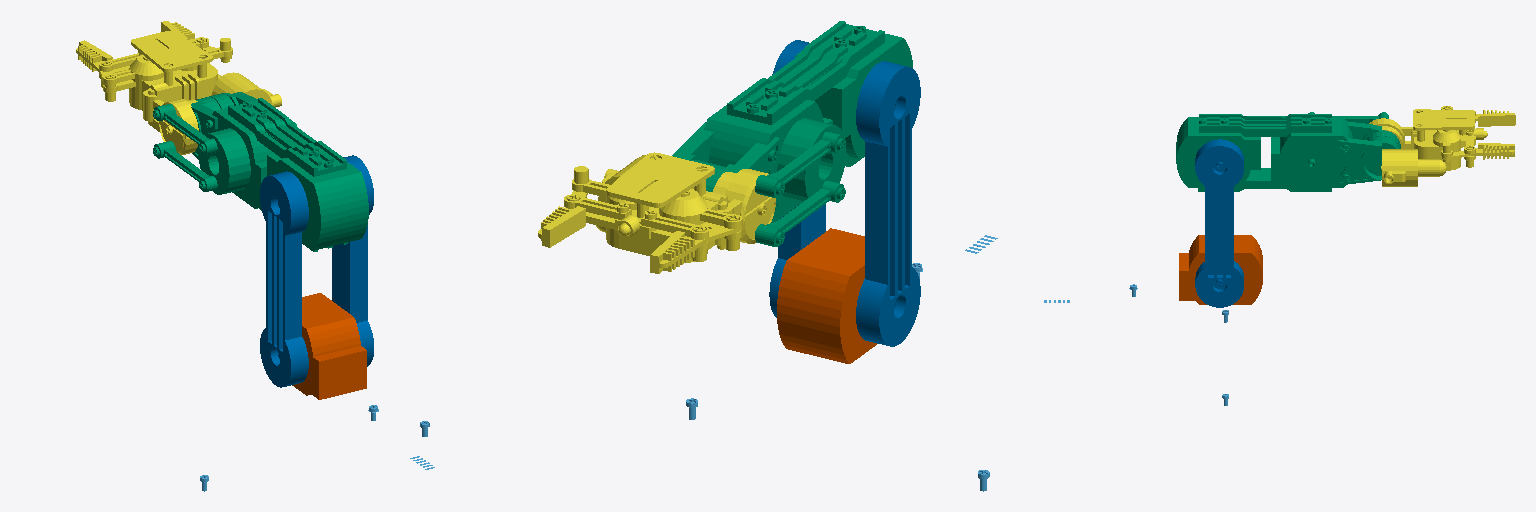
--- What the picture shows (computed from the rendered views, not written in the file) ---
3 views of the same robot in one strip: view 1: azimuth 30°, elevation 25°; view 2: azimuth 150°, elevation 25°; view 3: azimuth 270°, elevation 25° (orthographic).
Model owi535 with 6 links and 5 joints (4 revolute, 1 fixed), rooted at World, posed every joint at zero.
Links seen in each view (by area): view 1: Elbow, Base, Wrist, Rotation; view 2: Elbow, Wrist, Base, Rotation, Model; view 3: Elbow, Wrist, Base, Rotation.
Boxes of the visible links, x1,y1,x2,y2 form: Elbow: (153, 92, 368, 251); Base: (260, 155, 373, 387); Wrist: (76, 21, 281, 155); Rotation: (292, 293, 366, 399); Elbow: (672, 21, 912, 246); Wrist: (538, 152, 775, 273); Base: (769, 40, 920, 346); Rotation: (777, 228, 876, 363); Model: (686, 235, 997, 491); Elbow: (1176, 112, 1400, 191); Wrist: (1369, 106, 1515, 186); Base: (1195, 139, 1243, 307); Rotation: (1179, 235, 1262, 304).
Size in the robot's own frame: 1.43 by 3.27 by 1.87 metres.
72 mesh visuals loaded from 74 distinct referenced files (72 OBJ); not drawn: 2 (reference not matched to a file when rendering).

The robot description file, URDF, robot "owi535":
<?xml version="1.0" ?>
<robot name="owi535">

   <link name="World"/>
   <link name="Model">
      <visual>
         <origin rpy="0.0 -0.0 0.0" xyz="0.0 0.0 0.0"/>
         <geometry>
            <mesh filename="package://owi_35/urdf/Untitled-mesh.0.obj" scale="0.01 0.01 0.01"/>
         </geometry>
      </visual>
      <collision>
         <origin rpy="0.0 -0.0 0.0" xyz="0.0 0.0 0.0"/>
         <geometry>
            <mesh filename="package://owi_35/urdf/Untitled-mesh.0.obj" scale="0.01 0.01 0.01"/>
         </geometry>
      </collision>
      <visual>
         <origin rpy="0.0 -0.0 0.0" xyz="0.0 0.0 0.0"/>
         <geometry>
            <mesh filename="package://owi_35/urdf/Untitled_001-mesh.0.obj" scale="0.01 0.01 0.01"/>
         </geometry>
      </visual>
      <collision>
         <origin rpy="0.0 -0.0 0.0" xyz="0.0 0.0 0.0"/>
         <geometry>
            <mesh filename="package://owi_35/urdf/Untitled_001-mesh.0.obj" scale="0.01 0.01 0.01"/>
         </geometry>
      </collision>
      <visual>
         <origin rpy="0.0 -0.0 0.0" xyz="0.0 0.0 0.0"/>
         <geometry>
            <mesh filename="package://owi_35/urdf/Untitled_001-mesh.1.obj" scale="0.01 0.01 0.01"/>
         </geometry>
      </visual>
      <collision>
         <origin rpy="0.0 -0.0 0.0" xyz="0.0 0.0 0.0"/>
         <geometry>
            <mesh filename="package://owi_35/urdf/Untitled_001-mesh.1.obj" scale="0.01 0.01 0.01"/>
         </geometry>
      </collision>
      <visual>
         <origin rpy="0.0 -0.0 0.0" xyz="0.0 0.0 0.0"/>
         <geometry>
            <mesh filename="package://owi_35/urdf/Untitled_001-mesh.2.obj" scale="0.01 0.01 0.01"/>
         </geometry>
      </visual>
      <collision>
         <origin rpy="0.0 -0.0 0.0" xyz="0.0 0.0 0.0"/>
         <geometry>
            <mesh filename="package://owi_35/urdf/Untitled_001-mesh.2.obj" scale="0.01 0.01 0.01"/>
         </geometry>
      </collision>
      <visual>
         <origin rpy="0.0 -0.0 0.0" xyz="0.0 0.0 0.0"/>
         <geometry>
            <mesh filename="package://owi_35/urdf/Untitled_001-mesh.3.obj" scale="0.01 0.01 0.01"/>
         </geometry>
      </visual>
      <collision>
         <origin rpy="0.0 -0.0 0.0" xyz="0.0 0.0 0.0"/>
         <geometry>
            <mesh filename="package://owi_35/urdf/Untitled_001-mesh.3.obj" scale="0.01 0.01 0.01"/>
         </geometry>
      </collision>
      <visual>
         <origin rpy="0.0 -0.0 0.0" xyz="0.0 0.0 0.0"/>
         <geometry>
            <mesh filename="package://owi_35/urdf/Untitled_002-mesh.0.obj" scale="0.01 0.01 0.01"/>
         </geometry>
      </visual>
      <collision>
         <origin rpy="0.0 -0.0 0.0" xyz="0.0 0.0 0.0"/>
         <geometry>
            <mesh filename="package://owi_35/urdf/Untitled_002-mesh.0.obj" scale="0.01 0.01 0.01"/>
         </geometry>
      </collision>
      <visual>
         <origin rpy="0.0 -0.0 0.0" xyz="0.0 0.0 0.0"/>
         <geometry>
            <mesh filename="package://owi_35/urdf/Untitled_003-mesh.0.obj" scale="0.01 0.01 0.01"/>
         </geometry>
      </visual>
      <collision>
         <origin rpy="0.0 -0.0 0.0" xyz="0.0 0.0 0.0"/>
         <geometry>
            <mesh filename="package://owi_35/urdf/Untitled_003-mesh.0.obj" scale="0.01 0.01 0.01"/>
         </geometry>
      </collision>
      <inertial>
 <origin rpy="0.0 -0.0 0.0" xyz="0.0 0.0 0.0"/>
            <mass value="1" />
            
<inertia ixx="1.004" ixy="1.001" ixz="1" iyy="1.006" iyz="1" izz="1.007" />      </inertial>
   </link>
   <link name="Elbow">
      <visual>
         <origin rpy="-3.97231980642232e-09 -0.0 0.0" xyz="46.62923049926758 -157.33990478515625 23.237260818481445"/>
         <geometry>
            <mesh filename="package://owi_35/urdf/Untitled_004-mesh.0.obj" scale="0.01 0.01 0.01"/>
         </geometry>
      </visual>
      <collision>
         <origin rpy="-3.97231980642232e-09 -0.0 0.0" xyz="46.62923049926758 -157.33990478515625 23.237260818481445"/>
         <geometry>
            <mesh filename="package://owi_35/urdf/Untitled_004-mesh.0.obj" scale="0.01 0.01 0.01"/>
         </geometry>
      </collision>
      <visual>
         <origin rpy="-3.97231980642232e-09 -0.0 0.0" xyz="46.62923049926758 -157.33990478515625 23.237260818481445"/>
         <geometry>
            <mesh filename="package://owi_35/urdf/Untitled_005-mesh.0.obj" scale="0.01 0.01 0.01"/>
         </geometry>
      </visual>
      <collision>
         <origin rpy="-3.97231980642232e-09 -0.0 0.0" xyz="46.62923049926758 -157.33990478515625 23.237260818481445"/>
         <geometry>
            <mesh filename="package://owi_35/urdf/Untitled_005-mesh.0.obj" scale="0.01 0.01 0.01"/>
         </geometry>
      </collision>
      <visual>
         <origin rpy="-3.97231980642232e-09 -0.0 0.0" xyz="46.62923049926758 -157.33990478515625 23.237260818481445"/>
         <geometry>
            <mesh filename="package://owi_35/urdf/Untitled_006-mesh.0.obj" scale="0.01 0.01 0.01"/>
         </geometry>
      </visual>
      <collision>
         <origin rpy="-3.97231980642232e-09 -0.0 0.0" xyz="46.62923049926758 -157.33990478515625 23.237260818481445"/>
         <geometry>
            <mesh filename="package://owi_35/urdf/Untitled_006-mesh.0.obj" scale="0.01 0.01 0.01"/>
         </geometry>
      </collision>
      <visual>
         <origin rpy="-3.97231980642232e-09 -0.0 0.0" xyz="46.62923049926758 -157.33990478515625 23.237260818481445"/>
         <geometry>
            <mesh filename="package://owi_35/urdf/Untitled_007-mesh.0.obj" scale="0.01 0.01 0.01"/>
         </geometry>
      </visual>
      <collision>
         <origin rpy="-3.97231980642232e-09 -0.0 0.0" xyz="46.62923049926758 -157.33990478515625 23.237260818481445"/>
         <geometry>
            <mesh filename="package://owi_35/urdf/Untitled_007-mesh.0.obj" scale="0.01 0.01 0.01"/>
         </geometry>
      </collision>
      <visual>
         <origin rpy="-3.97231980642232e-09 -0.0 0.0" xyz="46.62923049926758 -157.33990478515625 23.237260818481445"/>
         <geometry>
            <mesh filename="package://owi_35/urdf/Untitled_008-mesh.0.obj" scale="0.01 0.01 0.01"/>
         </geometry>
      </visual>
      <collision>
         <origin rpy="-3.97231980642232e-09 -0.0 0.0" xyz="46.62923049926758 -157.33990478515625 23.237260818481445"/>
         <geometry>
            <mesh filename="package://owi_35/urdf/Untitled_008-mesh.0.obj" scale="0.01 0.01 0.01"/>
         </geometry>
      </collision>
      <visual>
         <origin rpy="-3.97231980642232e-09 -0.0 0.0" xyz="46.62923049926758 -157.33990478515625 23.237260818481445"/>
         <geometry>
            <mesh filename="package://owi_35/urdf/Untitled_009-mesh.0.obj" scale="0.01 0.01 0.01"/>
         </geometry>
      </visual>
      <collision>
         <origin rpy="-3.97231980642232e-09 -0.0 0.0" xyz="46.62923049926758 -157.33990478515625 23.237260818481445"/>
         <geometry>
            <mesh filename="package://owi_35/urdf/Untitled_009-mesh.0.obj" scale="0.01 0.01 0.01"/>
         </geometry>
      </collision>
      <visual>
         <origin rpy="-3.97231980642232e-09 -0.0 0.0" xyz="46.62923049926758 -157.33990478515625 23.237260818481445"/>
         <geometry>
            <mesh filename="package://owi_35/urdf/Untitled_010-mesh.0.obj" scale="0.01 0.01 0.01"/>
         </geometry>
      </visual>
      <collision>
         <origin rpy="-3.97231980642232e-09 -0.0 0.0" xyz="46.62923049926758 -157.33990478515625 23.237260818481445"/>
         <geometry>
            <mesh filename="package://owi_35/urdf/Untitled_010-mesh.0.obj" scale="0.01 0.01 0.01"/>
         </geometry>
      </collision>
      <visual>
         <origin rpy="-3.97231980642232e-09 -0.0 0.0" xyz="46.62923049926758 -157.33990478515625 23.237260818481445"/>
         <geometry>
            <mesh filename="package://owi_35/urdf/Untitled_011-mesh.0.obj" scale="0.01 0.01 0.01"/>
         </geometry>
      </visual>
      <collision>
         <origin rpy="-3.97231980642232e-09 -0.0 0.0" xyz="46.62923049926758 -157.33990478515625 23.237260818481445"/>
         <geometry>
            <mesh filename="package://owi_35/urdf/Untitled_011-mesh.0.obj" scale="0.01 0.01 0.01"/>
         </geometry>
      </collision>
      <visual>
         <origin rpy="-7.94463961284464e-09 -0.0 0.0" xyz="46.62922668457031 -157.33990478515625 23.237262725830078"/>
         <geometry>
            <mesh filename="package://owi_35/urdf/Untitled_040-mesh.0.obj" scale="0.01 0.01 0.01"/>
         </geometry>
      </visual>
      <collision>
         <origin rpy="-7.94463961284464e-09 -0.0 0.0" xyz="46.62922668457031 -157.33990478515625 23.237262725830078"/>
         <geometry>
            <mesh filename="package://owi_35/urdf/Untitled_040-mesh.0.obj" scale="0.01 0.01 0.01"/>
         </geometry>
      </collision>
      <visual>
         <origin rpy="-7.94463961284464e-09 -0.0 0.0" xyz="46.62922668457031 -157.33990478515625 23.237262725830078"/>
         <geometry>
            <mesh filename="package://owi_35/urdf/Untitled_041-mesh.0.obj" scale="0.01 0.01 0.01"/>
         </geometry>
      </visual>
      <collision>
         <origin rpy="-7.94463961284464e-09 -0.0 0.0" xyz="46.62922668457031 -157.33990478515625 23.237262725830078"/>
         <geometry>
            <mesh filename="package://owi_35/urdf/Untitled_041-mesh.0.obj" scale="0.01 0.01 0.01"/>
         </geometry>
      </collision>
      <visual>
         <origin rpy="-7.94463961284464e-09 -0.0 0.0" xyz="46.62922668457031 -157.33990478515625 23.237262725830078"/>
         <geometry>
            <mesh filename="package://owi_35/urdf/Untitled_042-mesh.0.obj" scale="0.01 0.01 0.01"/>
         </geometry>
      </visual>
      <collision>
         <origin rpy="-7.94463961284464e-09 -0.0 0.0" xyz="46.62922668457031 -157.33990478515625 23.237262725830078"/>
         <geometry>
            <mesh filename="package://owi_35/urdf/Untitled_042-mesh.0.obj" scale="0.01 0.01 0.01"/>
         </geometry>
      </collision>
      <visual>
         <origin rpy="-7.94463961284464e-09 -0.0 0.0" xyz="46.62922668457031 -157.33990478515625 23.237262725830078"/>
         <geometry>
            <mesh filename="package://owi_35/urdf/Untitled_043-mesh.0.obj" scale="0.01 0.01 0.01"/>
         </geometry>
      </visual>
      <collision>
         <origin rpy="-7.94463961284464e-09 -0.0 0.0" xyz="46.62922668457031 -157.33990478515625 23.237262725830078"/>
         <geometry>
            <mesh filename="package://owi_35/urdf/Untitled_043-mesh.0.obj" scale="0.01 0.01 0.01"/>
         </geometry>
      </collision>
      <visual>
         <origin rpy="-7.94463961284464e-09 -0.0 0.0" xyz="46.62922668457031 -157.33990478515625 23.237262725830078"/>
         <geometry>
            <mesh filename="package://owi_35/urdf/Untitled_044-mesh.0.obj" scale="0.01 0.01 0.01"/>
         </geometry>
      </visual>
      <collision>
         <origin rpy="-7.94463961284464e-09 -0.0 0.0" xyz="46.62922668457031 -157.33990478515625 23.237262725830078"/>
         <geometry>
            <mesh filename="package://owi_35/urdf/Untitled_044-mesh.0.obj" scale="0.01 0.01 0.01"/>
         </geometry>
      </collision>
      <visual>
         <origin rpy="-7.94463961284464e-09 -0.0 0.0" xyz="46.62922668457031 -157.33990478515625 23.237262725830078"/>
         <geometry>
            <mesh filename="package://owi_35/urdf/Untitled_045-mesh.0.obj" scale="0.01 0.01 0.01"/>
         </geometry>
      </visual>
      <collision>
         <origin rpy="-7.94463961284464e-09 -0.0 0.0" xyz="46.62922668457031 -157.33990478515625 23.237262725830078"/>
         <geometry>
            <mesh filename="package://owi_35/urdf/Untitled_045-mesh.0.obj" scale="0.01 0.01 0.01"/>
         </geometry>
      </collision>
      <visual>
         <origin rpy="-7.94463961284464e-09 -0.0 0.0" xyz="46.62922668457031 -157.33990478515625 23.237262725830078"/>
         <geometry>
            <mesh filename="package://owi_35/urdf/Untitled_046-mesh.0.obj" scale="0.01 0.01 0.01"/>
         </geometry>
      </visual>
      <collision>
         <origin rpy="-7.94463961284464e-09 -0.0 0.0" xyz="46.62922668457031 -157.33990478515625 23.237262725830078"/>
         <geometry>
            <mesh filename="package://owi_35/urdf/Untitled_046-mesh.0.obj" scale="0.01 0.01 0.01"/>
         </geometry>
      </collision>
      <visual>
         <origin rpy="-7.94463961284464e-09 -0.0 0.0" xyz="46.62922668457031 -157.33990478515625 23.237262725830078"/>
         <geometry>
            <mesh filename="package://owi_35/urdf/Untitled_047-mesh.0.obj" scale="0.01 0.01 0.01"/>
         </geometry>
      </visual>
      <collision>
         <origin rpy="-7.94463961284464e-09 -0.0 0.0" xyz="46.62922668457031 -157.33990478515625 23.237262725830078"/>
         <geometry>
            <mesh filename="package://owi_35/urdf/Untitled_047-mesh.0.obj" scale="0.01 0.01 0.01"/>
         </geometry>
      </collision>
      <visual>
         <origin rpy="-7.94463961284464e-09 -0.0 0.0" xyz="46.62922668457031 -157.33990478515625 23.237262725830078"/>
         <geometry>
            <mesh filename="package://owi_35/urdf/Untitled_048-mesh.0.obj" scale="0.01 0.01 0.01"/>
         </geometry>
      </visual>
      <collision>
         <origin rpy="-7.94463961284464e-09 -0.0 0.0" xyz="46.62922668457031 -157.33990478515625 23.237262725830078"/>
         <geometry>
            <mesh filename="package://owi_35/urdf/Untitled_048-mesh.0.obj" scale="0.01 0.01 0.01"/>
         </geometry>
      </collision>
      <visual>
         <origin rpy="-7.94463961284464e-09 -0.0 0.0" xyz="46.62922668457031 -157.33990478515625 23.237262725830078"/>
         <geometry>
            <mesh filename="package://owi_35/urdf/Untitled_049-mesh.0.obj" scale="0.01 0.01 0.01"/>
         </geometry>
      </visual>
      <collision>
         <origin rpy="-7.94463961284464e-09 -0.0 0.0" xyz="46.62922668457031 -157.33990478515625 23.237262725830078"/>
         <geometry>
            <mesh filename="package://owi_35/urdf/Untitled_049-mesh.0.obj" scale="0.01 0.01 0.01"/>
         </geometry>
      </collision>
      <visual>
         <origin rpy="-7.94463961284464e-09 -0.0 0.0" xyz="46.62922668457031 -157.33990478515625 23.237262725830078"/>
         <geometry>
            <mesh filename="package://owi_35/urdf/Untitled_050-mesh.0.obj" scale="0.01 0.01 0.01"/>
         </geometry>
      </visual>
      <collision>
         <origin rpy="-7.94463961284464e-09 -0.0 0.0" xyz="46.62922668457031 -157.33990478515625 23.237262725830078"/>
         <geometry>
            <mesh filename="package://owi_35/urdf/Untitled_050-mesh.0.obj" scale="0.01 0.01 0.01"/>
         </geometry>
      </collision>
      <visual>
         <origin rpy="-7.94463961284464e-09 -0.0 0.0" xyz="46.62922668457031 -157.33990478515625 23.237262725830078"/>
         <geometry>
            <mesh filename="package://owi_35/urdf/Untitled_051-mesh.0.obj" scale="0.01 0.01 0.01"/>
         </geometry>
      </visual>
      <collision>
         <origin rpy="-7.94463961284464e-09 -0.0 0.0" xyz="46.62922668457031 -157.33990478515625 23.237262725830078"/>
         <geometry>
            <mesh filename="package://owi_35/urdf/Untitled_051-mesh.0.obj" scale="0.01 0.01 0.01"/>
         </geometry>
      </collision>
      <visual>
         <origin rpy="-7.94463961284464e-09 -0.0 0.0" xyz="46.62922668457031 -157.33990478515625 23.237262725830078"/>
         <geometry>
            <mesh filename="package://owi_35/urdf/Untitled_052-mesh.0.obj" scale="0.01 0.01 0.01"/>
         </geometry>
      </visual>
      <collision>
         <origin rpy="-7.94463961284464e-09 -0.0 0.0" xyz="46.62922668457031 -157.33990478515625 23.237262725830078"/>
         <geometry>
            <mesh filename="package://owi_35/urdf/Untitled_052-mesh.0.obj" scale="0.01 0.01 0.01"/>
         </geometry>
      </collision>
      <visual>
         <origin rpy="-7.94463961284464e-09 -0.0 0.0" xyz="46.62922668457031 -157.33990478515625 23.237262725830078"/>
         <geometry>
            <mesh filename="package://owi_35/urdf/Untitled_053-mesh.0.obj" scale="0.01 0.01 0.01"/>
         </geometry>
      </visual>
      <collision>
         <origin rpy="-7.94463961284464e-09 -0.0 0.0" xyz="46.62922668457031 -157.33990478515625 23.237262725830078"/>
         <geometry>
            <mesh filename="package://owi_35/urdf/Untitled_053-mesh.0.obj" scale="0.01 0.01 0.01"/>
         </geometry>
      </collision>
      <visual>
         <origin rpy="-7.94463961284464e-09 -0.0 0.0" xyz="46.62922668457031 -157.33990478515625 23.237262725830078"/>
         <geometry>
            <mesh filename="package://owi_35/urdf/Untitled_054-mesh.0.obj" scale="0.01 0.01 0.01"/>
         </geometry>
      </visual>
      <collision>
         <origin rpy="-7.94463961284464e-09 -0.0 0.0" xyz="46.62922668457031 -157.33990478515625 23.237262725830078"/>
         <geometry>
            <mesh filename="package://owi_35/urdf/Untitled_054-mesh.0.obj" scale="0.01 0.01 0.01"/>
         </geometry>
      </collision>
      <visual>
         <origin rpy="-7.94463961284464e-09 -0.0 0.0" xyz="46.62922668457031 -157.33990478515625 23.237262725830078"/>
         <geometry>
            <mesh filename="package://owi_35/urdf/Untitled_055-mesh.0.obj" scale="0.01 0.01 0.01"/>
         </geometry>
      </visual>
      <collision>
         <origin rpy="-7.94463961284464e-09 -0.0 0.0" xyz="46.62922668457031 -157.33990478515625 23.237262725830078"/>
         <geometry>
            <mesh filename="package://owi_35/urdf/Untitled_055-mesh.0.obj" scale="0.01 0.01 0.01"/>
         </geometry>
      </collision>
      <visual>
         <origin rpy="-7.94463961284464e-09 -0.0 0.0" xyz="46.62922668457031 -157.33990478515625 23.237262725830078" />
         <geometry>
            <mesh filename="package://owi_35/urdf/Untitled_056-mesh.0.obj" scale="0.01 0.01 0.01"/>
         </geometry>
      </visual>
      <collision>
         <origin rpy="-7.94463961284464e-09 -0.0 0.0" xyz="46.62922668457031 -157.33990478515625 23.237262725830078"/>
         <geometry>
            <mesh filename="package://owi_35/urdf/Untitled_056-mesh.0.obj" scale="0.01 0.01 0.01"/>
         </geometry>
      </collision>
      <visual>
         <origin rpy="-7.94463961284464e-09 -0.0 0.0" xyz="46.62922668457031 -157.33990478515625 23.237262725830078"/>
         <geometry>
            <mesh filename="package://owi_35/urdf/Untitled_057-mesh.0.obj" scale="0.01 0.01 0.01"/>
         </geometry>
      </visual>
      <collision>
         <origin rpy="-7.94463961284464e-09 -0.0 0.0" xyz="46.62922668457031 -157.33990478515625 23.237262725830078"/>
         <geometry>
            <mesh filename="package://owi_35/urdf/Untitled_057-mesh.0.obj" scale="0.01 0.01 0.01"/>
         </geometry>
      </collision>
      <inertial>

            <mass value="5" />
            
<inertia ixx="1.004" ixy="1.001" ixz="1" iyy="1.006" iyz="1" izz="1.007" />     </inertial>
   </link>
   <link name="Wrist">
      <visual>
         <origin rpy="4.371139894487894e-08 -0.0 0.0" xyz="45.20729064941406 -156.94960021972656 136.8153076171875"/>
         <geometry>
            <mesh filename="package://owi_35/urdf/Untitled_012-mesh.0.obj" scale="0.01 0.01 0.01"/>
         </geometry>
      </visual>
      <collision>
         <origin rpy="4.371139894487894e-08 -0.0 0.0" xyz="45.20729064941406 -156.94960021972656 136.8153076171875"/>
         <geometry>
            <mesh filename="package://owi_35/urdf/Untitled_012-mesh.0.obj" scale="0.01 0.01 0.01"/>
         </geometry>
      </collision>
      <visual>
         <origin rpy="4.371139894487894e-08 -0.0 0.0" xyz="45.20729064941406 -156.94960021972656 136.8153076171875"/>
         <geometry>
            <mesh filename="package://owi_35/urdf/Untitled_013-mesh.0.obj" scale="0.01 0.01 0.01"/>
         </geometry>
      </visual>
      <collision>
         <origin rpy="4.371139894487894e-08 -0.0 0.0" xyz="45.20729064941406 -156.94960021972656 136.8153076171875"/>
         <geometry>
            <mesh filename="package://owi_35/urdf/Untitled_013-mesh.0.obj" scale="0.01 0.01 0.01"/>
         </geometry>
      </collision>
      <visual>
         <origin rpy="4.371139894487894e-08 -0.0 0.0" xyz="45.20729064941406 -156.94960021972656 136.8153076171875"/>
         <geometry>
            <mesh filename="package://owi_35/urdf/Untitled_014-mesh.0.obj" scale="0.01 0.01 0.01"/>
         </geometry>
      </visual>
      <collision>
         <origin rpy="4.371139894487894e-08 -0.0 0.0" xyz="45.20729064941406 -156.94960021972656 136.8153076171875"/>
         <geometry>
            <mesh filename="package://owi_35/urdf/Untitled_014-mesh.0.obj" scale="0.01 0.01 0.01"/>
         </geometry>
      </collision>
      <visual>
         <origin rpy="4.371139894487894e-08 -0.0 0.0" xyz="45.20729064941406 -156.94960021972656 136.8153076171875"/>
         <geometry>
            <mesh filename="package://owi_35/urdf/Untitled_015-mesh.0.obj" scale="0.01 0.01 0.01"/>
         </geometry>
      </visual>
      <collision>
         <origin rpy="4.371139894487894e-08 -0.0 0.0" xyz="45.20729064941406 -156.94960021972656 136.8153076171875"/>
         <geometry>
            <mesh filename="package://owi_35/urdf/Untitled_015-mesh.0.obj" scale="0.01 0.01 0.01"/>
         </geometry>
      </collision>
      <visual>
         <origin rpy="4.371139894487894e-08 -0.0 0.0" xyz="45.20729064941406 -156.94960021972656 136.8153076171875"/>
         <geometry>
            <mesh filename="package://owi_35/urdf/Untitled_016-mesh.0.obj" scale="0.01 0.01 0.01"/>
         </geometry>
      </visual>
      <collision>
         <origin rpy="4.371139894487894e-08 -0.0 0.0" xyz="45.20729064941406 -156.94960021972656 136.8153076171875"/>
         <geometry>
            <mesh filename="package://owi_35/urdf/Untitled_016-mesh.0.obj" scale="0.01 0.01 0.01"/>
         </geometry>
      </collision>
      <visual>
         <origin rpy="4.371139894487894e-08 -0.0 0.0" xyz="45.20729064941406 -156.94960021972656 136.8153076171875"/>
         <geometry>
            <mesh filename="package://owi_35/urdf/Untitled_017-mesh.0.obj" scale="0.01 0.01 0.01"/>
         </geometry>
      </visual>
      <collision>
         <origin rpy="4.371139894487894e-08 -0.0 0.0" xyz="45.20729064941406 -156.94960021972656 136.8153076171875"/>
         <geometry>
            <mesh filename="package://owi_35/urdf/Untitled_017-mesh.0.obj" scale="0.01 0.01 0.01"/>
         </geometry>
      </collision>
      <visual>
         <origin rpy="4.371139894487894e-08 -0.0 0.0" xyz="45.20729064941406 -156.94960021972656 136.8153076171875"/>
         <geometry>
            <mesh filename="package://owi_35/urdf/Untitled_018-mesh.0.obj" scale="0.01 0.01 0.01"/>
         </geometry>
      </visual>
      <collision>
         <origin rpy="4.371139894487894e-08 -0.0 0.0" xyz="45.20729064941406 -156.94960021972656 136.8153076171875"/>
         <geometry>
            <mesh filename="package://owi_35/urdf/Untitled_018-mesh.0.obj" scale="0.01 0.01 0.01"/>
         </geometry>
      </collision>
      <visual>
         <origin rpy="4.371139894487894e-08 -0.0 0.0" xyz="45.20729064941406 -156.94960021972656 136.8153076171875"/>
         <geometry>
            <mesh filename="package://owi_35/urdf/Untitled_019-mesh.0.obj" scale="0.01 0.01 0.01"/>
         </geometry>
      </visual>
      <collision>
         <origin rpy="4.371139894487894e-08 -0.0 0.0" xyz="45.20729064941406 -156.94960021972656 136.8153076171875"/>
         <geometry>
            <mesh filename="package://owi_35/urdf/Untitled_019-mesh.0.obj" scale="0.01 0.01 0.01"/>
         </geometry>
      </collision>
      <visual>
         <origin rpy="4.371139894487894e-08 -0.0 0.0" xyz="45.20729064941406 -156.94960021972656 136.8153076171875"/>
         <geometry>
            <mesh filename="package://owi_35/urdf/Untitled_019-mesh.1.obj" scale="0.01 0.01 0.01"/>
         </geometry>
      </visual>
      <collision>
         <origin rpy="4.371139894487894e-08 -0.0 0.0" xyz="45.20729064941406 -156.94960021972656 136.8153076171875"/>
         <geometry>
            <mesh filename="package://owi_35/urdf/Untitled_019-mesh.1.obj" scale="0.01 0.01 0.01"/>
         </geometry>
      </collision>
      <visual>
         <origin rpy="4.371139894487894e-08 -0.0 0.0" xyz="45.20729064941406 -156.94960021972656 136.8153076171875"/>
         <geometry>
            <mesh filename="package://owi_35/urdf/Untitled_019-mesh.2.obj" scale="0.01 0.01 0.01"/>
         </geometry>
      </visual>
      <collision>
         <origin rpy="4.371139894487894e-08 -0.0 0.0" xyz="45.20729064941406 -156.94960021972656 136.8153076171875"/>
         <geometry>
            <mesh filename="package://owi_35/urdf/Untitled_019-mesh.2.obj" scale="0.01 0.01 0.01"/>
         </geometry>
      </collision>
      <visual>
         <origin rpy="4.371139894487894e-08 -0.0 0.0" xyz="45.20729064941406 -156.94960021972656 136.8153076171875"/>
         <geometry>
            <mesh filename="package://owi_35/urdf/Untitled_020-mesh.0.obj" scale="0.01 0.01 0.01"/>
         </geometry>
      </visual>
      <collision>
         <origin rpy="4.371139894487894e-08 -0.0 0.0" xyz="45.20729064941406 -156.94960021972656 136.8153076171875"/>
         <geometry>
            <mesh filename="package://owi_35/urdf/Untitled_020-mesh.0.obj" scale="0.01 0.01 0.01"/>
         </geometry>
      </collision>
      <visual>
         <origin rpy="4.371139894487894e-08 -0.0 0.0" xyz="45.20729064941406 -156.94960021972656 136.8153076171875"/>
         <geometry>
            <mesh filename="package://owi_35/urdf/Untitled_021-mesh.0.obj" scale="0.01 0.01 0.01"/>
         </geometry>
      </visual>
      <collision>
         <origin rpy="4.371139894487894e-08 -0.0 0.0" xyz="45.20729064941406 -156.94960021972656 136.8153076171875"/>
         <geometry>
            <mesh filename="package://owi_35/urdf/Untitled_021-mesh.0.obj" scale="0.01 0.01 0.01"/>
         </geometry>
      </collision>
      <visual>
         <origin rpy="4.371139894487894e-08 -0.0 0.0" xyz="45.20729064941406 -156.94960021972656 136.8153076171875"/>
         <geometry>
            <mesh filename="package://owi_35/urdf/Untitled_022-mesh.0.obj" scale="0.01 0.01 0.01"/>
         </geometry>
      </visual>
      <collision>
         <origin rpy="4.371139894487894e-08 -0.0 0.0" xyz="45.20729064941406 -156.94960021972656 136.8153076171875"/>
         <geometry>
            <mesh filename="package://owi_35/urdf/Untitled_022-mesh.0.obj" scale="0.01 0.01 0.01"/>
         </geometry>
      </collision>
      <visual>
         <origin rpy="4.371139894487894e-08 -0.0 0.0" xyz="45.20729064941406 -156.94960021972656 136.8153076171875"/>
         <geometry>
            <mesh filename="package://owi_35/urdf/Untitled_022-mesh.1.obj" scale="0.01 0.01 0.01"/>
         </geometry>
      </visual>
      <collision>
         <origin rpy="4.371139894487894e-08 -0.0 0.0" xyz="45.20729064941406 -156.94960021972656 136.8153076171875"/>
         <geometry>
            <mesh filename="package://owi_35/urdf/Untitled_022-mesh.1.obj" scale="0.01 0.01 0.01"/>
         </geometry>
      </collision>
      <visual>
         <origin rpy="4.371139894487894e-08 -0.0 0.0" xyz="45.20729064941406 -156.94960021972656 136.8153076171875"/>
         <geometry>
            <mesh filename="package://owi_35/urdf/Untitled_022-mesh.2.obj" scale="0.01 0.01 0.01"/>
         </geometry>
      </visual>
      <collision>
         <origin rpy="4.371139894487894e-08 -0.0 0.0" xyz="45.20729064941406 -156.94960021972656 136.8153076171875"/>
         <geometry>
            <mesh filename="package://owi_35/urdf/Untitled_022-mesh.2.obj" scale="0.01 0.01 0.01"/>
         </geometry>
      </collision>
      <visual>
         <origin rpy="4.371139894487894e-08 -0.0 0.0" xyz="45.20729064941406 -156.94960021972656 136.8153076171875"/>
         <geometry>
            <mesh filename="package://owi_35/urdf/Untitled_023-mesh.0.obj" scale="0.01 0.01 0.01"/>
         </geometry>
      </visual>
      <collision>
         <origin rpy="4.371139894487894e-08 -0.0 0.0" xyz="45.20729064941406 -156.94960021972656 136.8153076171875"/>
         <geometry>
            <mesh filename="package://owi_35/urdf/Untitled_023-mesh.0.obj" scale="0.01 0.01 0.01"/>
         </geometry>
      </collision>
      <visual>
         <origin rpy="4.371139894487894e-08 -0.0 0.0" xyz="45.20729064941406 -156.94960021972656 136.8153076171875"/>
         <geometry>
            <mesh filename="package://owi_35/urdf/Untitled_024-mesh.0.obj" scale="0.01 0.01 0.01"/>
         </geometry>
      </visual>
      <collision>
         <origin rpy="4.371139894487894e-08 -0.0 0.0" xyz="45.20729064941406 -156.94960021972656 136.8153076171875"/>
         <geometry>
            <mesh filename="package://owi_35/urdf/Untitled_024-mesh.0.obj" scale="0.01 0.01 0.01"/>
         </geometry>
      </collision>
      <visual>
         <origin rpy="4.371139894487894e-08 -0.0 0.0" xyz="45.20729064941406 -156.94960021972656 136.8153076171875"/>
         <geometry>
            <mesh filename="package://owi_35/urdf/Untitled_025-mesh.0.obj" scale="0.01 0.01 0.01"/>
         </geometry>
      </visual>
      <collision>
         <origin rpy="4.371139894487894e-08 -0.0 0.0" xyz="45.20729064941406 -156.94960021972656 136.8153076171875"/>
         <geometry>
            <mesh filename="package://owi_35/urdf/Untitled_025-mesh.0.obj" scale="0.01 0.01 0.01"/>
         </geometry>
      </collision>
      <visual>
         <origin rpy="4.371139894487894e-08 -0.0 0.0" xyz="45.20729064941406 -156.94960021972656 136.8153076171875"/>
         <geometry>
            <mesh filename="package://owi_35/urdf/Untitled_026-mesh.0.obj" scale="0.01 0.01 0.01"/>
         </geometry>
      </visual>
      <collision>
         <origin rpy="4.371139894487894e-08 -0.0 0.0" xyz="45.20729064941406 -156.94960021972656 136.8153076171875"/>
         <geometry>
            <mesh filename="package://owi_35/urdf/Untitled_026-mesh.0.obj" scale="0.01 0.01 0.01"/>
         </geometry>
      </collision>
      <visual>
         <origin rpy="4.371139894487894e-08 -0.0 0.0" xyz="45.20729064941406 -156.94960021972656 136.8153076171875"/>
         <geometry>
            <mesh filename="package://owi_35/urdf/Untitled_026-mesh.1.obj" scale="0.01 0.01 0.01"/>
         </geometry>
      </visual>
      <collision>
         <origin rpy="4.371139894487894e-08 -0.0 0.0" xyz="45.20729064941406 -156.94960021972656 136.8153076171875"/>
         <geometry>
            <mesh filename="package://owi_35/urdf/Untitled_026-mesh.1.obj" scale="0.01 0.01 0.01"/>
         </geometry>
      </collision>
      <visual>
         <origin rpy="4.371139894487894e-08 -0.0 0.0" xyz="45.20729064941406 -156.94960021972656 136.8153076171875"/>
         <geometry>
            <mesh filename="package://owi_35/urdf/Untitled_027-mesh.0.obj" scale="0.01 0.01 0.01"/>
         </geometry>
      </visual>
      <collision>
         <origin rpy="4.371139894487894e-08 -0.0 0.0" xyz="45.20729064941406 -156.94960021972656 136.8153076171875"/>
         <geometry>
            <mesh filename="package://owi_35/urdf/Untitled_027-mesh.0.obj" scale="0.01 0.01 0.01"/>
         </geometry>
      </collision>
      <visual>
         <origin rpy="4.371139894487894e-08 -0.0 0.0" xyz="45.20729064941406 -156.94960021972656 136.8153076171875"/>
         <geometry>
            <mesh filename="package://owi_35/urdf/Untitled_028-mesh.0.obj" scale="0.01 0.01 0.01"/>
         </geometry>
      </visual>
      <collision>
         <origin rpy="4.371139894487894e-08 -0.0 0.0" xyz="45.20729064941406 -156.94960021972656 136.8153076171875"/>
         <geometry>
            <mesh filename="package://owi_35/urdf/Untitled_028-mesh.0.obj" scale="0.01 0.01 0.01"/>
         </geometry>
      </collision>
      <visual>
         <origin rpy="4.371139894487894e-08 -0.0 0.0" xyz="45.20729064941406 -156.94960021972656 136.8153076171875"/>
         <geometry>
            <mesh filename="package://owi_35/urdf/Untitled_029-mesh.0.obj" scale="0.01 0.01 0.01"/>
         </geometry>
      </visual>
      <collision>
         <origin rpy="4.371139894487894e-08 -0.0 0.0" xyz="45.20729064941406 -156.94960021972656 136.8153076171875"/>
         <geometry>
            <mesh filename="package://owi_35/urdf/Untitled_029-mesh.0.obj" scale="0.01 0.01 0.01"/>
         </geometry>
      </collision>
      <visual>
         <origin rpy="4.371139894487894e-08 -0.0 0.0" xyz="45.20729064941406 -156.94960021972656 136.8153076171875"/>
         <geometry>
            <mesh filename="package://owi_35/urdf/Untitled_030-mesh.0.obj" scale="0.01 0.01 0.01"/>
         </geometry>
      </visual>
      <collision>
         <origin rpy="4.371139894487894e-08 -0.0 0.0" xyz="45.20729064941406 -156.94960021972656 136.8153076171875"/>
         <geometry>
            <mesh filename="package://owi_35/urdf/Untitled_030-mesh.0.obj" scale="0.01 0.01 0.01"/>
         </geometry>
      </collision>
      <visual>
         <origin rpy="4.371139894487894e-08 -0.0 0.0" xyz="45.20729064941406 -156.94960021972656 136.8153076171875"/>
         <geometry>
            <mesh filename="package://owi_35/urdf/Untitled_031-mesh.0.obj" scale="0.01 0.01 0.01"/>
         </geometry>
      </visual>
      <collision>
         <origin rpy="4.371139894487894e-08 -0.0 0.0" xyz="45.20729064941406 -156.94960021972656 136.8153076171875"/>
         <geometry>
            <mesh filename="package://owi_35/urdf/Untitled_031-mesh.0.obj" scale="0.01 0.01 0.01"/>
         </geometry>
      </collision>
      <visual>
         <origin rpy="4.371139894487894e-08 -0.0 0.0" xyz="45.20729064941406 -156.94960021972656 136.8153076171875"/>
         <geometry>
            <mesh filename="package://owi_35/urdf/Untitled_032-mesh.0.obj" scale="0.01 0.01 0.01"/>
         </geometry>
      </visual>
      <collision>
         <origin rpy="4.371139894487894e-08 -0.0 0.0" xyz="45.20729064941406 -156.94960021972656 136.8153076171875"/>
         <geometry>
            <mesh filename="package://owi_35/urdf/Untitled_032-mesh.0.obj" scale="0.01 0.01 0.01"/>
         </geometry>
      </collision>
      <visual>
         <origin rpy="4.371139894487894e-08 -0.0 0.0" xyz="45.20729064941406 -156.94960021972656 136.8153076171875"/>
         <geometry>
            <mesh filename="package://owi_35/urdf/Untitled_033-mesh.0.obj" scale="0.01 0.01 0.01"/>
         </geometry>
      </visual>
      <collision>
         <origin rpy="4.371139894487894e-08 -0.0 0.0" xyz="45.20729064941406 -156.94960021972656 136.8153076171875"/>
         <geometry>
            <mesh filename="package://owi_35/urdf/Untitled_033-mesh.0.obj" scale="0.01 0.01 0.01"/>
         </geometry>
      </collision>
      <visual>
         <origin rpy="4.371139894487894e-08 -0.0 0.0" xyz="45.20729064941406 -156.94960021972656 136.8153076171875"/>
         <geometry>
            <mesh filename="package://owi_35/urdf/Untitled_034-mesh.0.obj" scale="0.01 0.01 0.01"/>
         </geometry>
      </visual>
      <collision>
         <origin rpy="4.371139894487894e-08 -0.0 0.0" xyz="45.20729064941406 -156.94960021972656 136.8153076171875"/>
         <geometry>
            <mesh filename="package://owi_35/urdf/Untitled_034-mesh.0.obj" scale="0.01 0.01 0.01"/>
         </geometry>
      </collision>
      <visual>
         <origin rpy="4.371139894487894e-08 -0.0 0.0" xyz="45.20729064941406 -156.94960021972656 136.8153076171875"/>
         <geometry>
            <mesh filename="package://owi_35/urdf/Untitled_035-mesh.0.obj" scale="0.01 0.01 0.01"/>
         </geometry>
      </visual>
      <collision>
         <origin rpy="4.371139894487894e-08 -0.0 0.0" xyz="45.20729064941406 -156.94960021972656 136.8153076171875"/>
         <geometry>
            <mesh filename="package://owi_35/urdf/Untitled_035-mesh.0.obj" scale="0.01 0.01 0.01"/>
         </geometry>
      </collision>
      <visual>
         <origin rpy="4.371139894487894e-08 -0.0 0.0" xyz="45.20729064941406 -156.94960021972656 136.8153076171875"/>
         <geometry>
            <mesh filename="package://owi_35/urdf/Untitled_036-mesh.0.obj" scale="0.01 0.01 0.01"/>
         </geometry>
      </visual>
      <collision>
         <origin rpy="4.371139894487894e-08 -0.0 0.0" xyz="45.20729064941406 -156.94960021972656 136.8153076171875"/>
         <geometry>
            <mesh filename="package://owi_35/urdf/Untitled_036-mesh.0.obj" scale="0.01 0.01 0.01"/>
         </geometry>
      </collision>
      <visual>
         <origin rpy="4.371139894487894e-08 -0.0 0.0" xyz="45.20729064941406 -156.94960021972656 136.8153076171875"/>
         <geometry>
            <mesh filename="package://owi_35/urdf/Untitled_037-mesh.0.obj" scale="0.01 0.01 0.01"/>
         </geometry>
      </visual>
      <collision>
         <origin rpy="4.371139894487894e-08 -0.0 0.0" xyz="45.20729064941406 -156.94960021972656 136.8153076171875"/>
         <geometry>
            <mesh filename="package://owi_35/urdf/Untitled_037-mesh.0.obj" scale="0.01 0.01 0.01"/>
         </geometry>
      </collision>
      <visual>
         <origin rpy="4.371139894487894e-08 -0.0 0.0" xyz="45.20729064941406 -156.94960021972656 136.8153076171875"/>
         <geometry>
            <mesh filename="package://owi_35/urdf/Untitled_037-mesh.1.obj" scale="0.01 0.01 0.01"/>
         </geometry>
      </visual>
      <collision>
         <origin rpy="4.371139894487894e-08 -0.0 0.0" xyz="45.20729064941406 -156.94960021972656 136.8153076171875"/>
         <geometry>
            <mesh filename="package://owi_35/urdf/Untitled_037-mesh.1.obj" scale="0.01 0.01 0.01" />
         </geometry>
      </collision>
      <visual>
         <origin rpy="4.371139894487894e-08 -0.0 0.0" xyz="45.20729064941406 -156.94960021972656 136.8153076171875"/>
         <geometry>
            <mesh filename="package://owi_35/urdf/Untitled_038-mesh.0.obj" scale="0.01 0.01 0.01"/>
         </geometry>
      </visual>
      <collision>
         <origin rpy="4.371139894487894e-08 -0.0 0.0" xyz="45.20729064941406 -156.94960021972656 136.8153076171875"/>
         <geometry>
            <mesh filename="package://owi_35/urdf/Untitled_038-mesh.0.obj" scale="0.01 0.01 0.01"/>
         </geometry>
      </collision>
      <visual>
         <origin rpy="4.371139894487894e-08 -0.0 0.0" xyz="45.20729064941406 -156.94960021972656 136.8153076171875"/>
         <geometry>
            <mesh filename="package://owi_35/urdf/Untitled_039-mesh.0.obj" scale="0.01 0.01 0.01"/>
         </geometry>
      </visual>
      <collision>
         <origin rpy="4.371139894487894e-08 -0.0 0.0" xyz="45.20729064941406 -156.94960021972656 136.8153076171875"/>
         <geometry>
            <mesh filename="package://owi_35/urdf/Untitled_039-mesh.0.obj" scale="0.01 0.01 0.01"/>
         </geometry>
      </collision>
      <inertial>

            <mass value="5" />
            
 <inertia ixx="1.004" ixy="1.001" ixz="1" iyy="1.006" iyz="1" izz="1.007" />    </inertial>
   </link>
   <link name="Base">
      <visual>
         <origin rpy="1.1128840071705781e-08 -0.0 0.0" xyz="45.207271575927734 -67.66277313232422 22.967529296875"/>
         <geometry>
            <mesh filename="package://owi_35/urdf/Untitled_058-mesh.0.obj" scale="0.01 0.01 0.01"/>
         </geometry>
      </visual>
      <collision>
         <origin rpy="1.1128840071705781e-08 -0.0 0.0" xyz="45.207271575927734 -67.66277313232422 22.967529296875"/>
         <geometry>
            <mesh filename="package://owi_35/urdf/Untitled_058-mesh.0.obj" scale="0.01 0.01 0.01"/>
         </geometry>
      </collision>
      <visual>
         <origin rpy="1.1128840071705781e-08 -0.0 0.0" xyz="45.207271575927734 -67.66277313232422 22.967529296875"/>
         <geometry>
            <mesh filename="package://owi_35/urdf/Untitled_059-mesh.0.obj" scale="0.01 0.01 0.01"/>
         </geometry>
      </visual>
      <collision>
         <origin rpy="1.1128840071705781e-08 -0.0 0.0" xyz="45.207271575927734 -67.66277313232422 22.967529296875"/>
         <geometry>
            <mesh filename="package://owi_35/urdf/Untitled_059-mesh.0.obj" scale="0.01 0.01 0.01"/>
         </geometry>
      </collision>
      <visual>
         <origin rpy="1.1128840071705781e-08 -0.0 0.0" xyz="45.207271575927734 -67.66277313232422 22.967529296875"/>
         <geometry>
            <mesh filename="package://owi_35/urdf/Untitled_060-mesh.0.obj" scale="0.01 0.01 0.01"/>
         </geometry>
      </visual>
      <collision>
         <origin rpy="1.1128840071705781e-08 -0.0 0.0" xyz="45.207271575927734 -67.66277313232422 22.967529296875"/>
         <geometry>
            <mesh filename="package://owi_35/urdf/Untitled_060-mesh.0.obj" scale="0.01 0.01 0.01"/>
         </geometry>
      </collision>
      <visual>
         <origin rpy="1.1128840071705781e-08 -0.0 0.0" xyz="45.207271575927734 -67.66277313232422 22.967529296875"/>
         <geometry>
            <mesh filename="package://owi_35/urdf/Untitled_061-mesh.0.obj" scale="0.01 0.01 0.01"/>
         </geometry>
      </visual>
      <collision>
         <origin rpy="1.1128840071705781e-08 -0.0 0.0" xyz="45.207271575927734 -67.66277313232422 22.967529296875"/>
         <geometry>
            <mesh filename="package://owi_35/urdf/Untitled_061-mesh.0.obj" scale="0.01 0.01 0.01"/>
         </geometry>
      </collision>
      <visual>
         <origin rpy="1.1128840071705781e-08 -0.0 0.0" xyz="45.207271575927734 -67.66277313232422 22.967529296875"/>
         <geometry>
            <mesh filename="package://owi_35/urdf/Untitled_062-mesh.0.obj" scale="0.01 0.01 0.01"/>
         </geometry>
      </visual>
      <collision>
         <origin rpy="1.1128840071705781e-08 -0.0 0.0" xyz="45.207271575927734 -67.66277313232422 22.967529296875"/>
         <geometry>
            <mesh filename="package://owi_35/urdf/Untitled_062-mesh.0.obj" scale="0.01 0.01 0.01"/>
         </geometry>
      </collision>
      <visual>
         <origin rpy="1.1128840071705781e-08 -0.0 0.0" xyz="45.207271575927734 -67.66277313232422 22.967529296875"/>
         <geometry>
            <mesh filename="package://owi_35/urdf/Untitled_063-mesh.0.obj" scale="0.01 0.01 0.01"/>
         </geometry>
      </visual>
      <collision>
         <origin rpy="1.1128840071705781e-08 -0.0 0.0" xyz="45.207271575927734 -67.66277313232422 22.967529296875"/>
         <geometry>
            <mesh filename="package://owi_35/urdf/Untitled_063-mesh.0.obj" scale="0.01 0.01 0.01"/>
         </geometry>
      </collision>
      <inertial>
<origin rpy="1.1128840071705781e-08 -0.0 0.0" xyz="45.207271575927734 -67.66277313232422 22.967529296875"/>
            <mass value="5" />
            
<inertia ixx="1.004" ixy="1.001" ixz="1" iyy="1.006" iyz="1" izz="1.007" />     </inertial>
   </link>
   <link name="Rotation">
      <visual>
         <origin rpy="1.112884007170578e-08 -1.2086680101219856e-07 -3.1868600558481205e-07" xyz="45.94236755371094 -66.8334732055664 25.347610473632812"/>
         <geometry>
            <mesh filename="package://owi_35/urdf/Untitled_064-mesh.0.obj" scale="0.01 0.01 0.01"/>
         </geometry>
      </visual>
      <collision>
         <origin rpy="1.112884007170578e-08 -1.2086680101219856e-07 -3.1868600558481205e-07" xyz="45.94236755371094 -66.8334732055664 25.347610473632812"/>
         <geometry>
            <mesh filename="package://owi_35/urdf/Untitled_064-mesh.0.obj" scale="0.01 0.01 0.01"/>
         </geometry>
      </collision>
      <inertial>

            <mass value="5" />
          
           <inertia ixx="0.03" ixy="0" ixz="0" iyy="0.03" iyz="0" izz="0.03" />    </inertial>
   </link>
   <joint name="World_Model" type="fixed">
      <parent link="World"/>
      <child link="Model"/>
<dynamics damping="0.0" friction="0.0"/>
      <origin rpy="1.5707963705062988 -0.0 0.0" xyz="0.0 0.0 0.0"/>
   </joint>
   <joint name="Model_Rotation" type="revolute">
      <parent link="Model"/>
      <child link="Rotation"/>
<dynamics damping="0.0" friction="0.0"/>
      <origin rpy="0.0 -0.0 0.0" xyz="-45.9423713684082 66.8334732055664 -25.347610473632812"/>
      <axis xyz="0 1 0"/>
      <limit effort="1000" velocity="1.0" lower="-2.268928" upper="2.268928"/>
   </joint>
   <joint name="Rotation_Base" type="revolute">
      <parent link="Rotation"/>
      <child link="Base"/>
<dynamics damping="0.0" friction="0.0"/>
      <origin rpy="5.5644200358528906e-09 -6.043340050609917e-08 -1.5934300279241008e-07" xyz="0.7350807189941406 0.8293303847312927 2.3800790309906006"/>
      <axis xyz="1 0 0"/>
      <limit effort="1000" velocity="1.0" lower="-1.570796" upper="1.047198"/>
   </joint>
   <joint name="Base_Elbow" type="revolute">
      <parent link="Base"/>
<dynamics damping="0.0" friction="0.0"/>
      <child link="Elbow"/>
      <origin rpy="5.5644200358528906e-09 -0.0 0.0" xyz="-1.42194402217865 89.6771011352539 -0.2697296142578125"/>
      <axis xyz="1 0 0"/>
      <limit effort="1000" velocity="1.0" lower="-1.047198" upper="1.570796"/>
   </joint>
   <joint name="Elbow_Wrist" type="revolute">
      <parent link="Elbow"/>
      <child link="Wrist"/>
<dynamics damping="0.0" friction="0.0"/>
      <origin rpy="-3.97231980642232e-09 -0.0 0.0" xyz="1.4219470024108887 -0.3902587890625 -113.5781021118164"/>
      <axis xyz="1 0 0"/>
      <limit effort="1000" velocity="1.0" lower="-0.785398" upper="0.785398"/>
   </joint>

   <transmission name="tran2">
      <type>transmission_interface/SimpleTransmission</type>
      <joint name="Model_Rotation">
   <hardwareInterface>hardware_interface/EffortJointInterface</hardwareInterface>
      </joint>
      <actuator name="motor1">
   <hardwareInterface>hardware_interface/EffortJointInterface</hardwareInterface>
   <mechanicalReduction>1</mechanicalReduction>
      </actuator>
    </transmission>

    <transmission name="tran3">
      <type>transmission_interface/SimpleTransmission</type>
      <joint name="Rotation_Base">
   <hardwareInterface>hardware_interface/EffortJointInterface</hardwareInterface>
      </joint>
      <actuator name="motor2">
   <hardwareInterface>hardware_interface/EffortJointInterface</hardwareInterface>
   <mechanicalReduction>1</mechanicalReduction>
      </actuator>
    </transmission>

    <transmission name="tran4">
      <type>transmission_interface/SimpleTransmission</type>
      <joint name="Base_Elbow">
   <hardwareInterface>hardware_interface/EffortJointInterface</hardwareInterface>
      </joint>
      <actuator name="motor3">
   <hardwareInterface>hardware_interface/EffortJointInterface</hardwareInterface>
   <mechanicalReduction>1</mechanicalReduction>
      </actuator>
    </transmission>

    <transmission name="tran5">
      <type>transmission_interface/SimpleTransmission</type>
      <joint name="Elbow_Wrist">
   <hardwareInterface>hardware_interface/EffortJointInterface</hardwareInterface>
      </joint>
      <actuator name="motor4">
   <hardwareInterface>hardware_interface/EffortJointInterface</hardwareInterface>
   <mechanicalReduction>1</mechanicalReduction>
      </actuator>
    </transmission>
    <gazebo>
<plugin filename="libgazebo_ros_control.so" name="gazebo_ros_control">
<robotNamespace>/owi535</robotNamespace>
<robotSimType>gazebo_ros_control/DefaultRobotHWSim</robotSimType>
<legacyModeNS>true</legacyModeNS>
</plugin>
</gazebo>

</robot>
